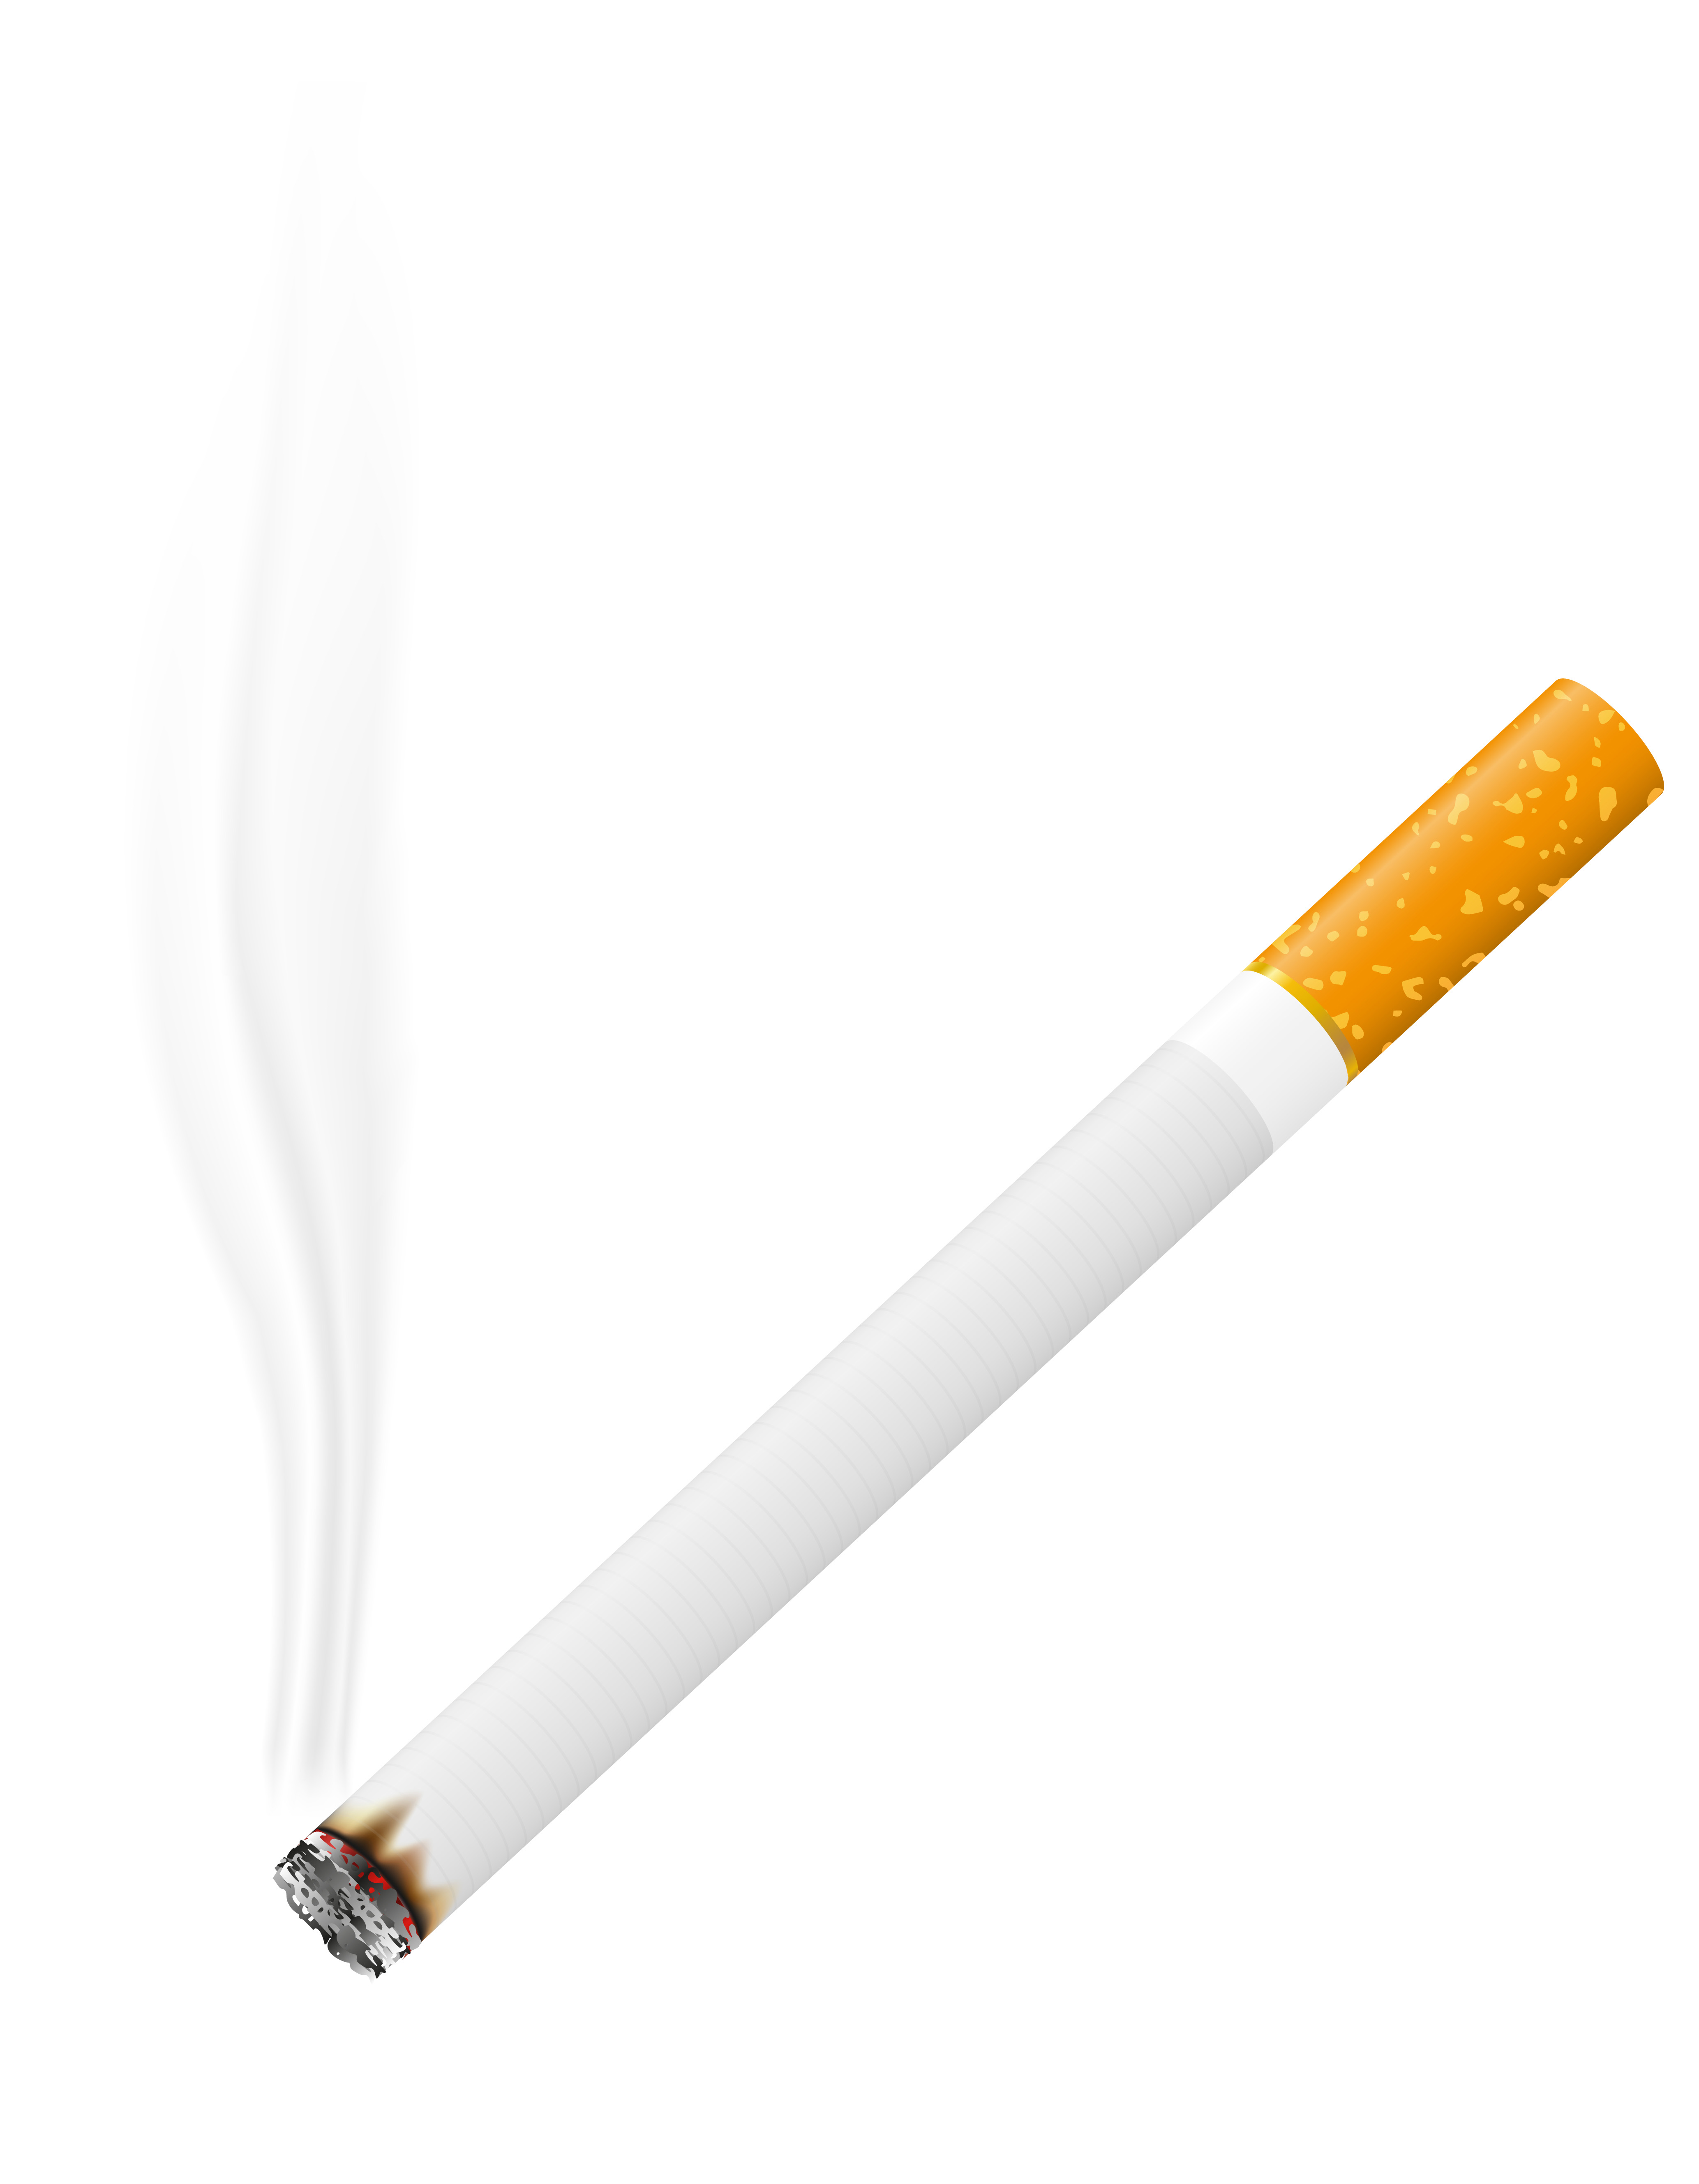cigarette: (186, 622, 1699, 2072)
